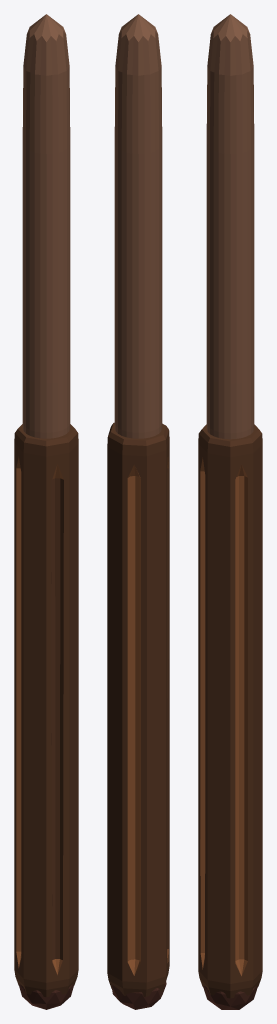
The model's file is Wand 510.glb.
The picture shows the model from 3 angles, left to right: view 1: azimuth 90°, elevation 25°; view 2: azimuth 150°, elevation 25°; view 3: azimuth 270°, elevation 25°; orthographic projection.
Parts seen in each view (by area): view 1: GeneratedWand; view 2: GeneratedWand; view 3: GeneratedWand.
Part boxes in pixels (left/top/right/bottom): GeneratedWand: left=14, top=14, right=78, bottom=1009; GeneratedWand: left=107, top=14, right=169, bottom=1009; GeneratedWand: left=198, top=14, right=262, bottom=1009.
Bounding box in the file's own units: 0.0289 × 0.4916 × 0.0289.
